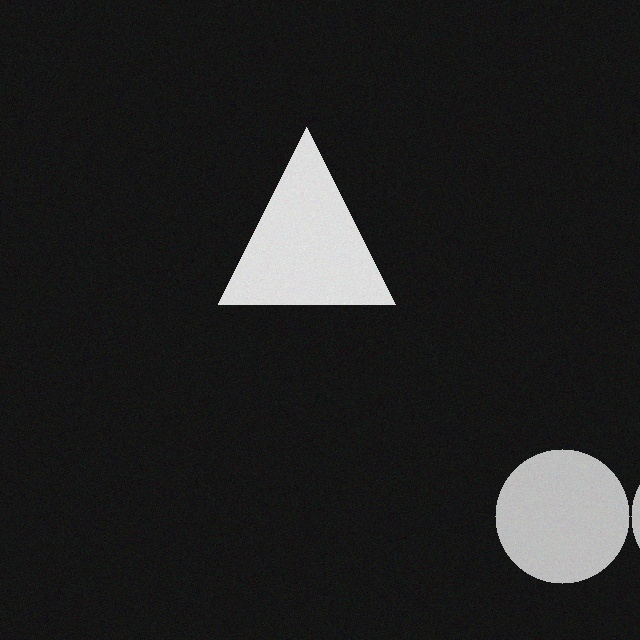circle: (504, 437, 638, 571)
triangle: (227, 115, 404, 292)
